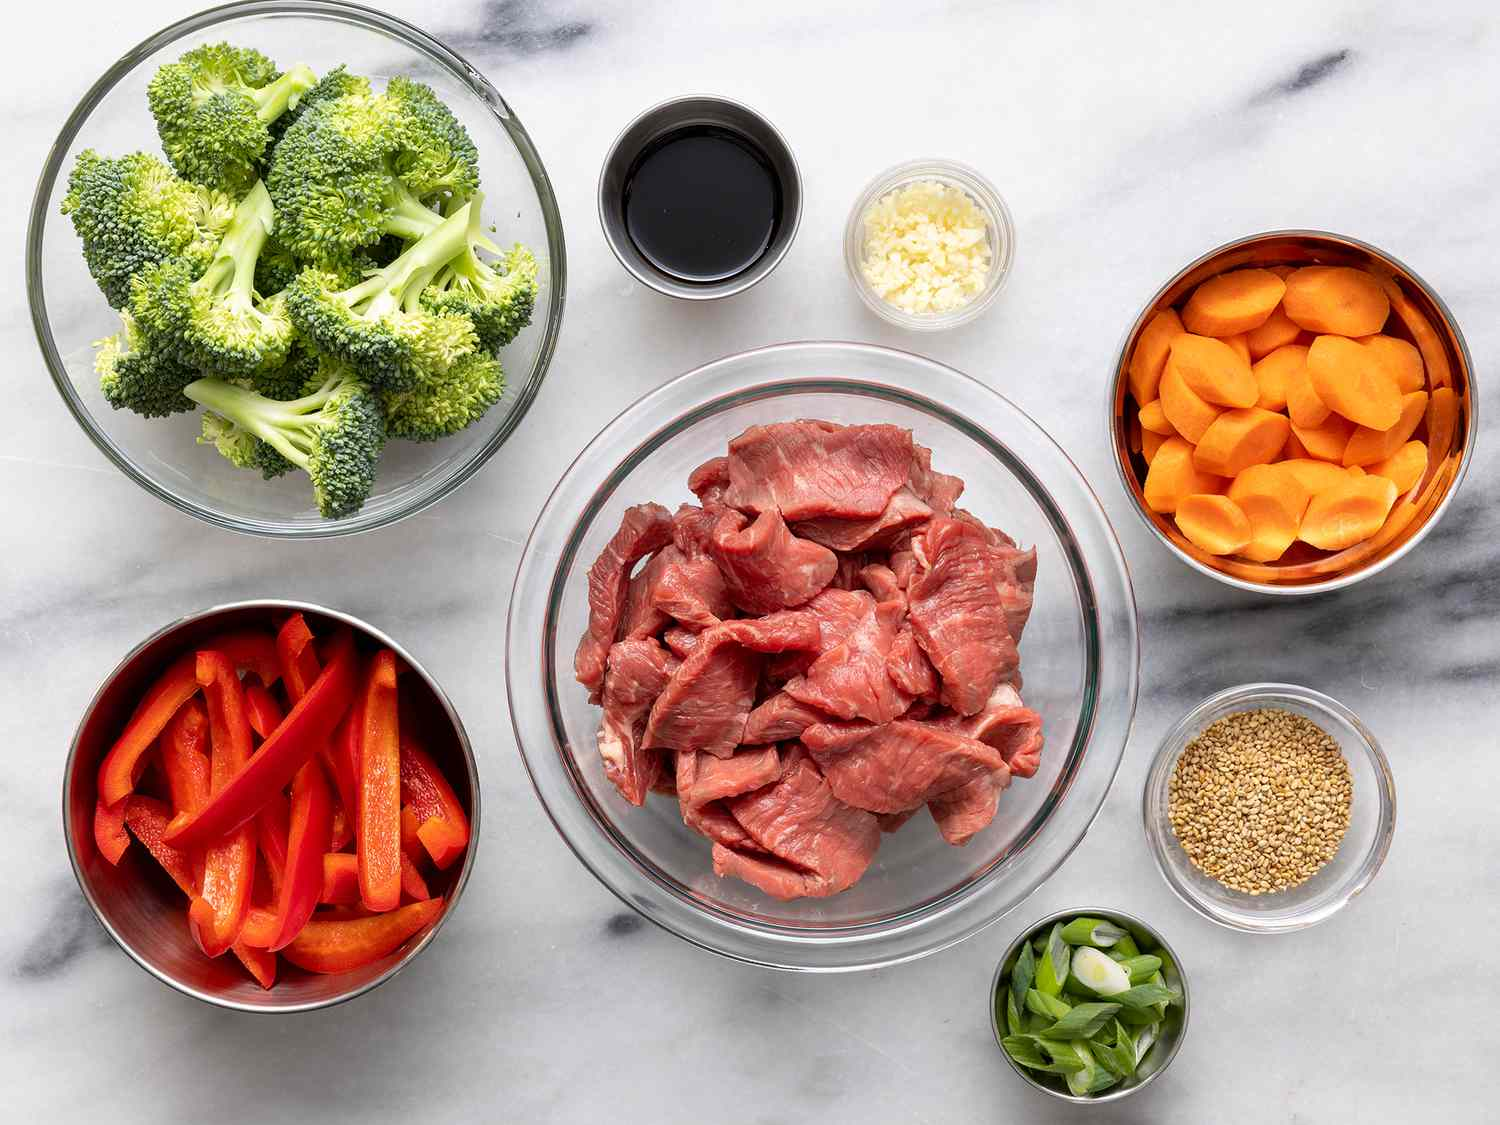Beef: (556, 401, 1088, 934)
Broccoli: (167, 352, 410, 528), (252, 87, 478, 271), (267, 209, 487, 373), (125, 178, 296, 389), (40, 139, 259, 300), (128, 30, 332, 195), (348, 323, 511, 438), (443, 249, 546, 340)
